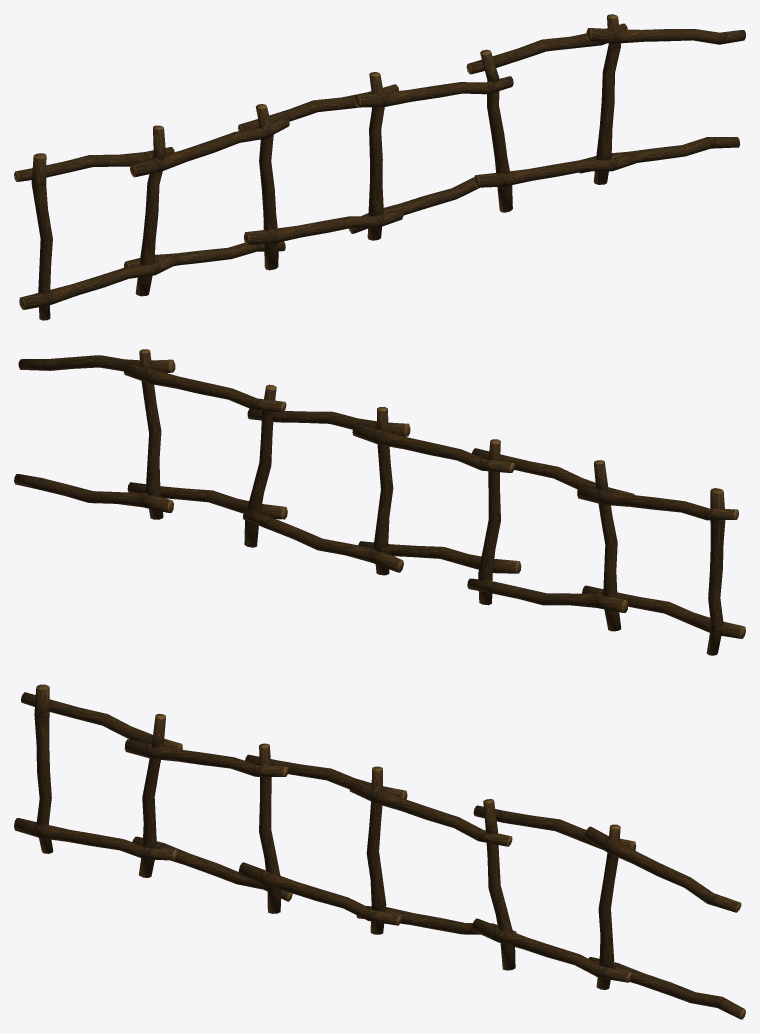
File: shared_stick_fance_04.fbx
The picture shows the model from 3 angles, top to bottom: view 1: azimuth 30°, elevation 25°; view 2: azimuth 150°, elevation 25°; view 3: azimuth 330°, elevation 25°; orthographic projection.
Parts seen in each view (by area): view 1: shared_stick_fance_04; view 2: shared_stick_fance_04; view 3: shared_stick_fance_04.
Part boxes in pixels (box(x1,y1,x2,y2)): shared_stick_fance_04: box(14, 14, 745, 320); shared_stick_fance_04: box(14, 349, 745, 655); shared_stick_fance_04: box(14, 684, 745, 1019).
Bounding box in the file's own units: 5.5 × 1.23 × 0.2352.
